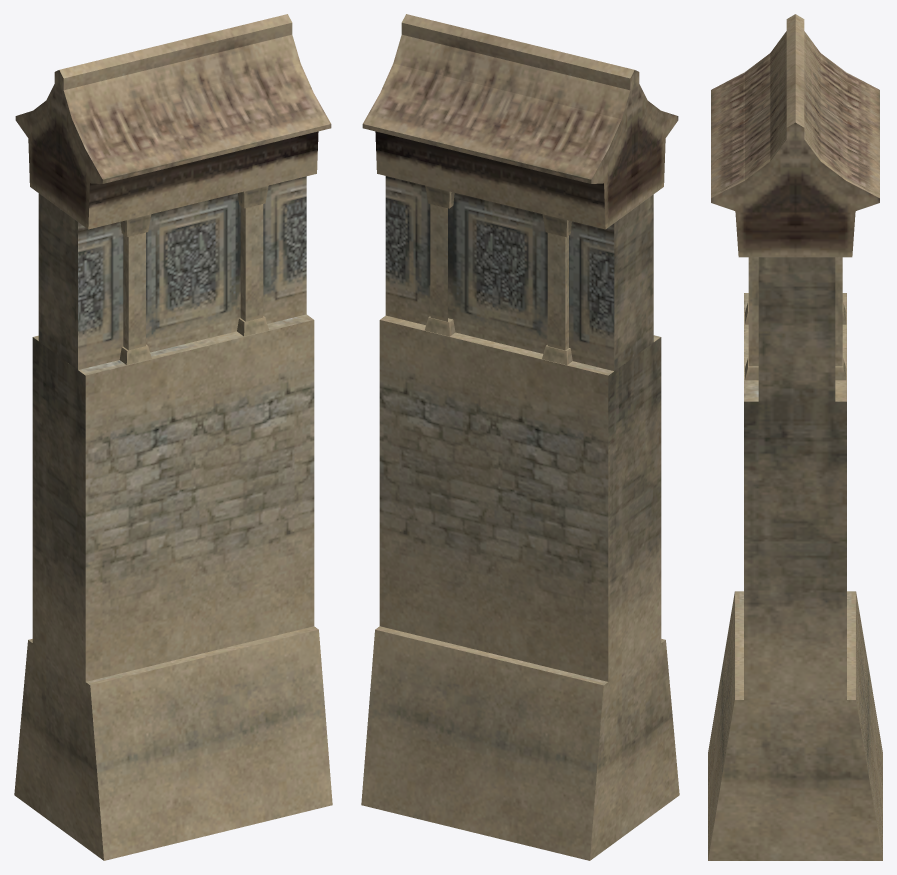
File: desert-middledam-04.fbx
3 renders of one model, left to right at view 1: azimuth 30°, elevation 25°; view 2: azimuth 150°, elevation 25°; view 3: azimuth 270°, elevation 25°, orthographic. The views are drawn at different scales.
Visible parts, largest first — view 1: desert-middledam-02; view 2: desert-middledam-02; view 3: desert-middledam-02.
Part boxes in pixels (box(x1,y1,x2,y2)): desert-middledam-02: box(14, 14, 332, 860); desert-middledam-02: box(361, 14, 679, 860); desert-middledam-02: box(708, 14, 882, 860).
Size of the model in its own units: 2.5 by 7.92 by 1.7.
